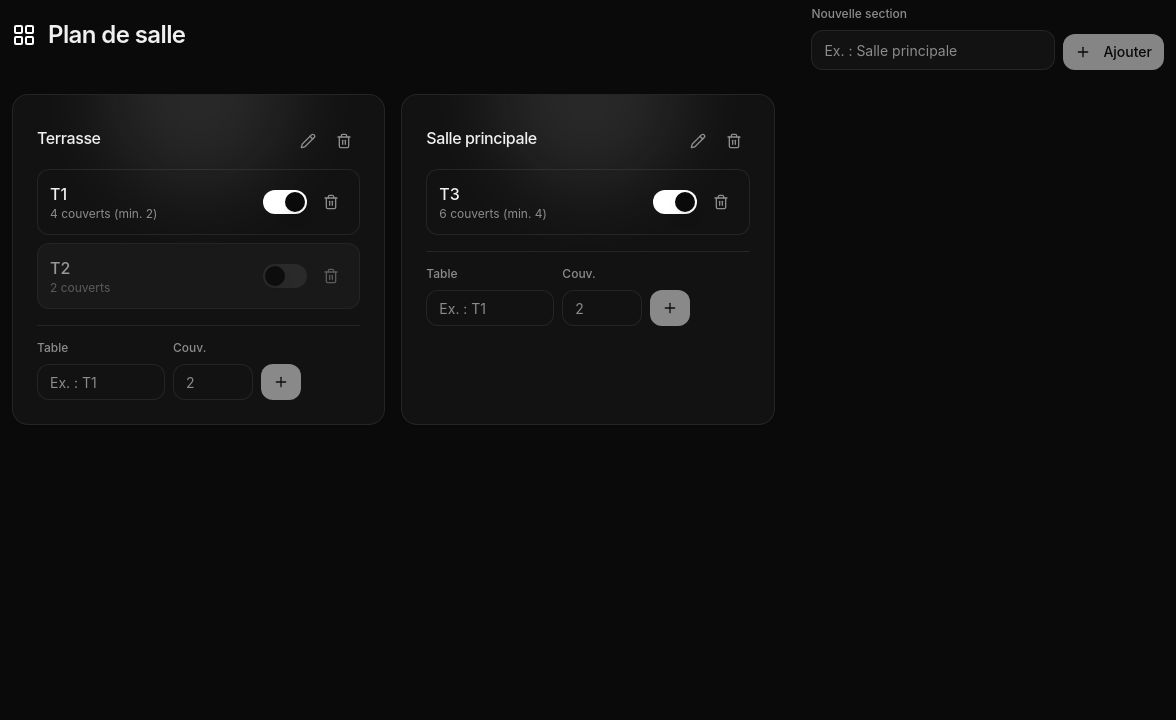
Scenario: FloorPlanCrud › affiche une erreur si le changement d’état d’une table échoue
Expected: the heading "Plan de salle" is shown, top-left (48, 19), bottom-right (185, 51)
Click the switch named "Activer T1". click: (285, 202)
box: top-left (263, 190), bottom-right (307, 214)
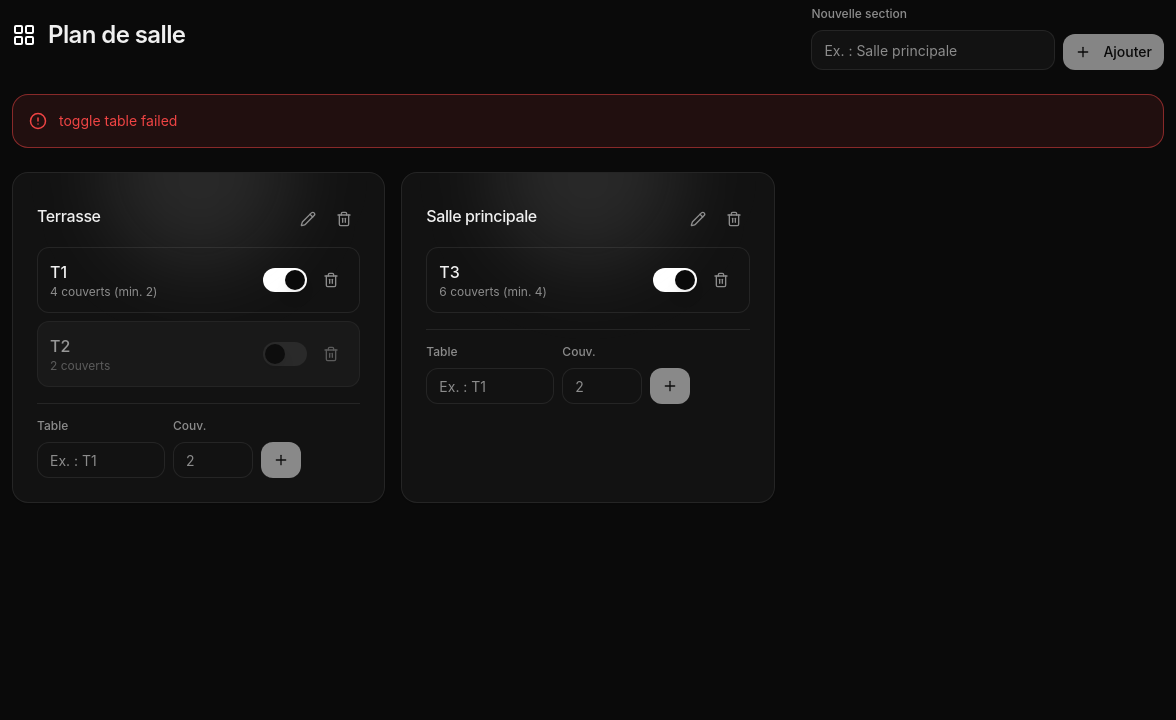
Expected: the text "toggle table failed" is shown, top-left (12, 94), bottom-right (1164, 148)
